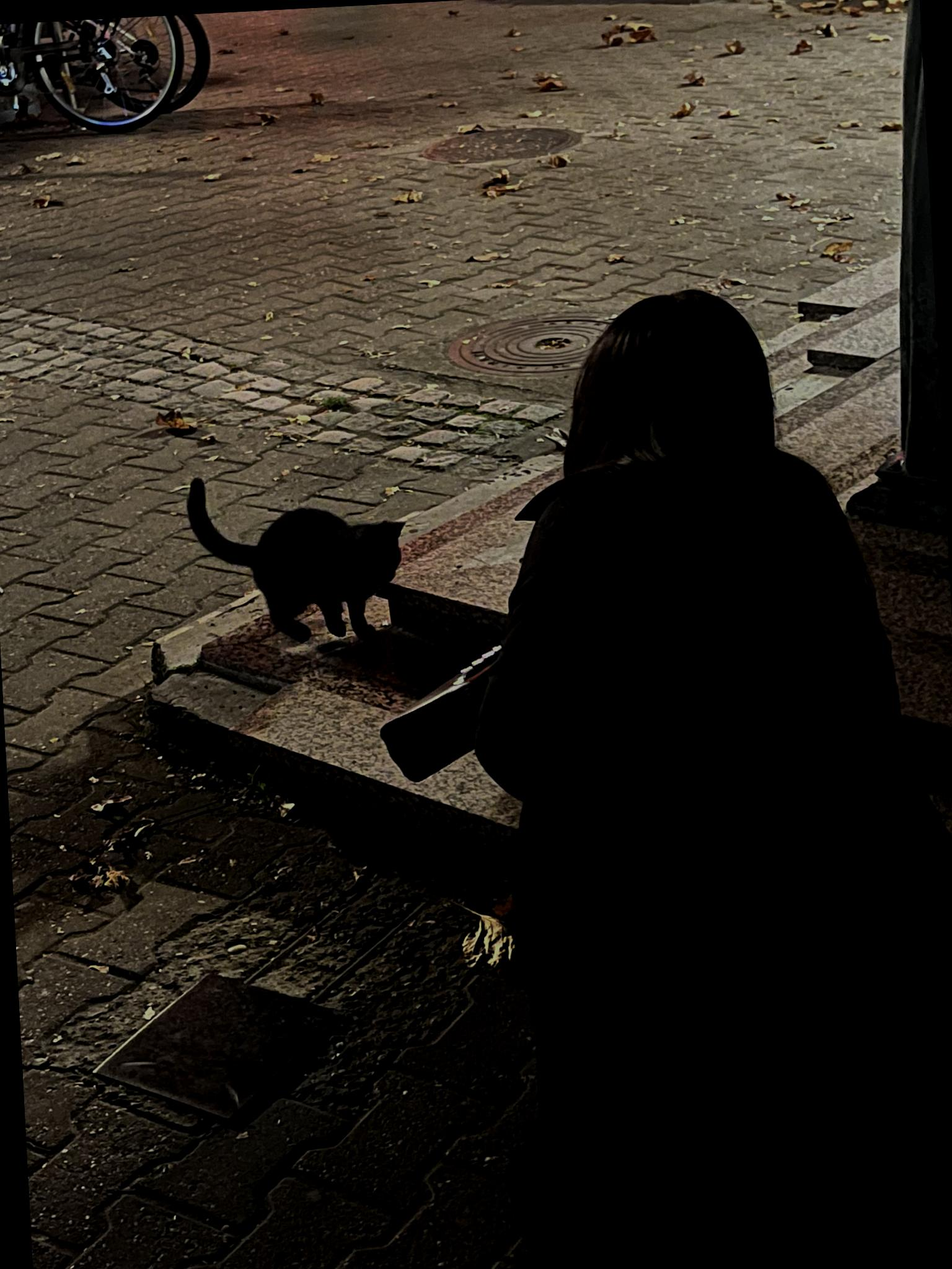macka: (184, 465, 410, 649)
